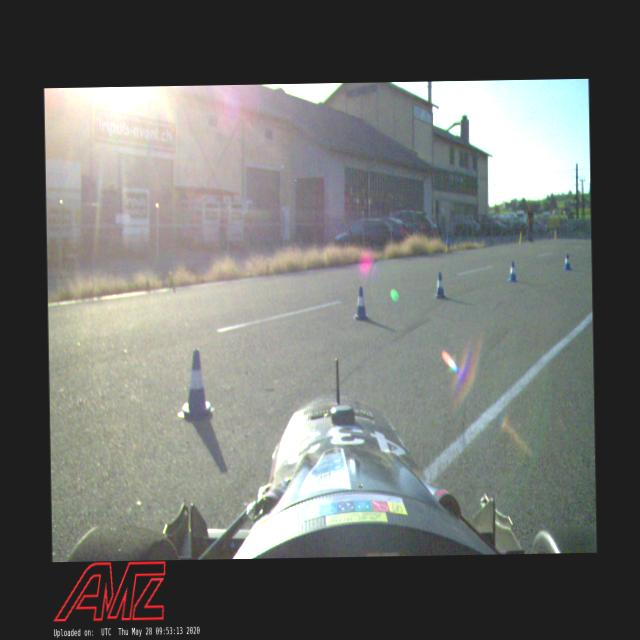blue_cone: (176, 348, 213, 419), (352, 286, 369, 320), (432, 272, 447, 298), (506, 260, 516, 282), (563, 252, 572, 270)
